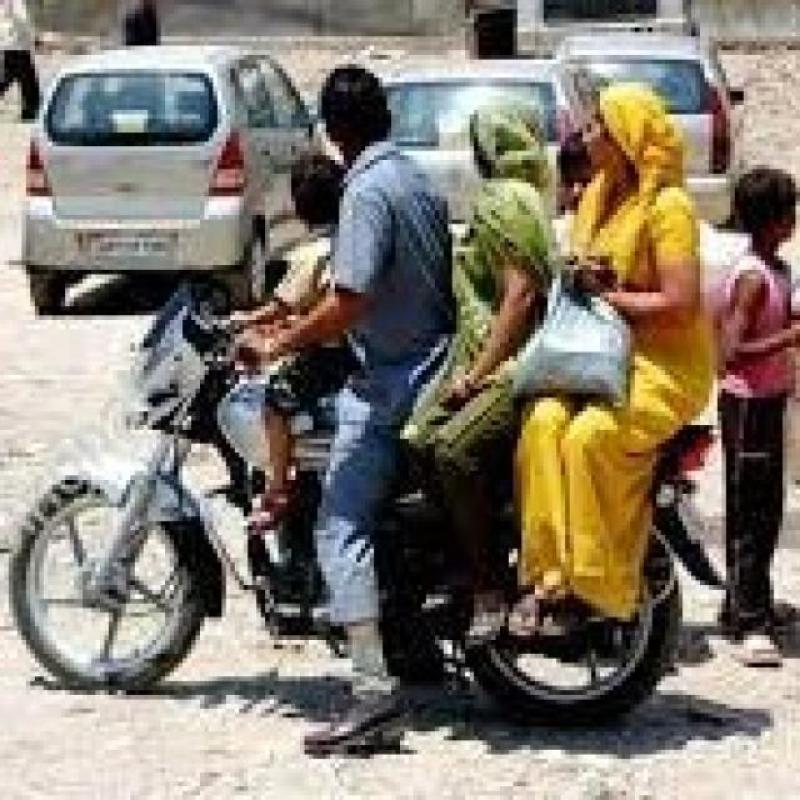nohelmet: (578, 73, 682, 189), (318, 49, 404, 170)
